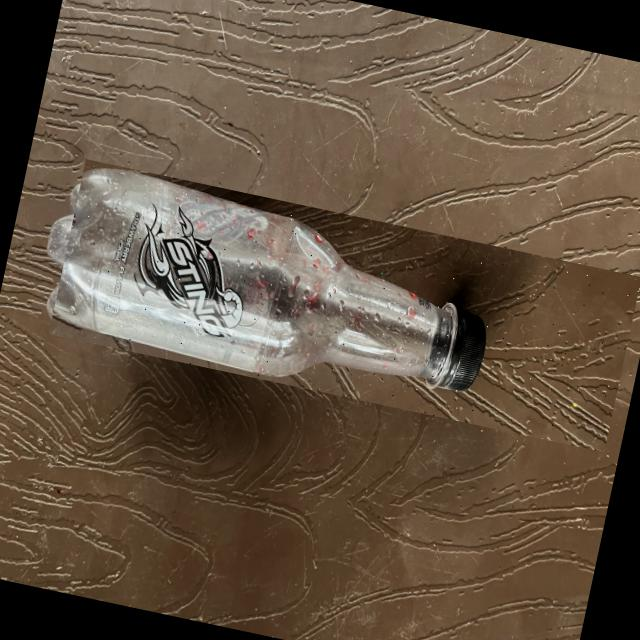PET_With_Cap: (47, 157, 640, 450)
